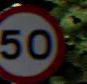Speed limit: (1, 4, 65, 77)
